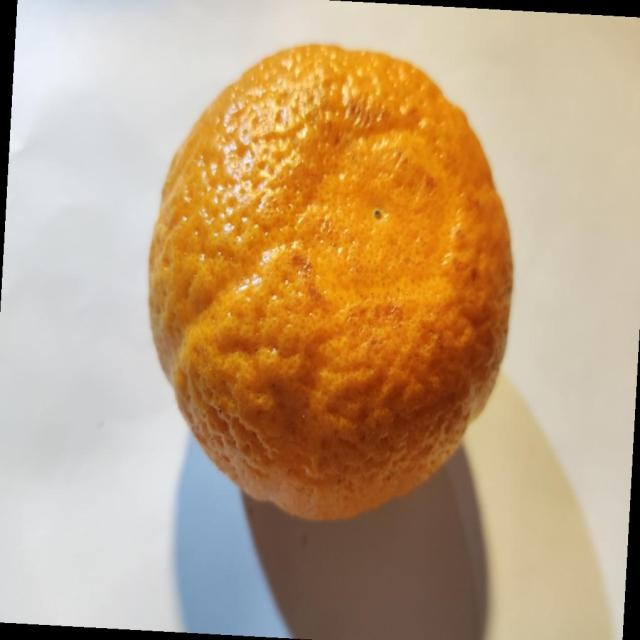agrume: (147, 42, 514, 521)
